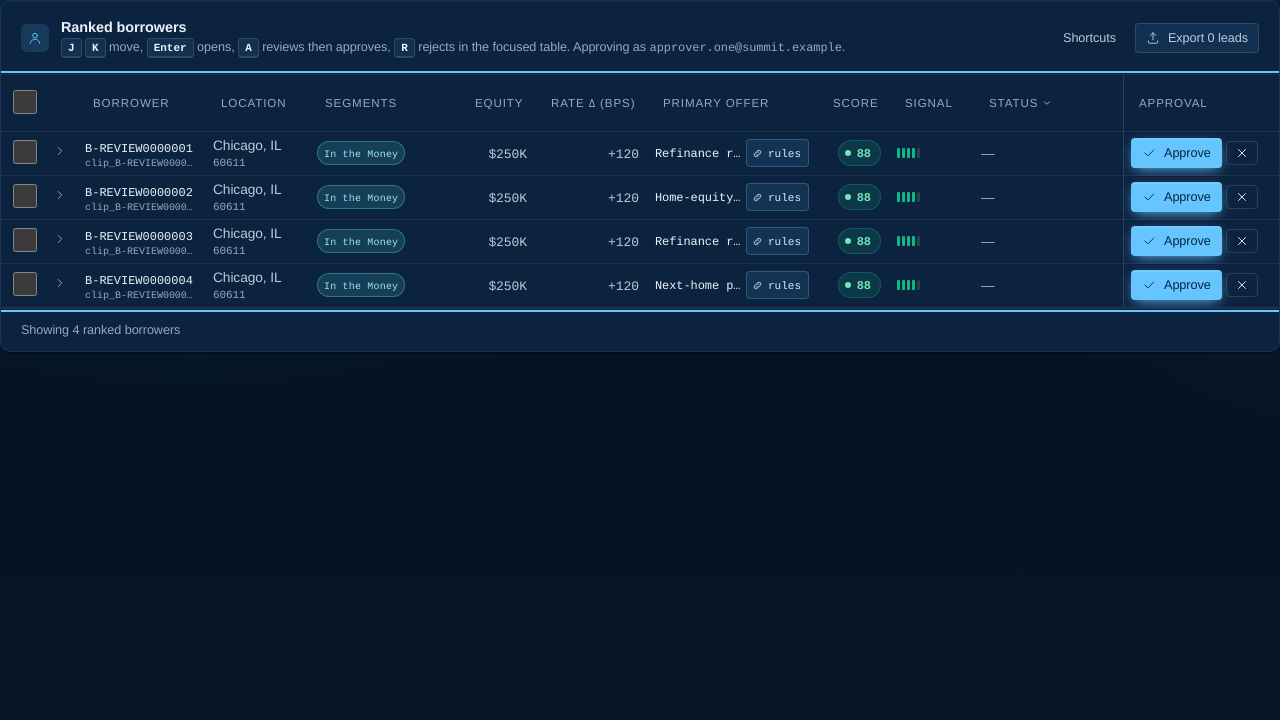
Test case: LeadTable approve review › a review left open on a row that collapsed comes back as the dialog with the same draft
Press j in the element with class "tbl-wrap", box [1,75,1279,308]
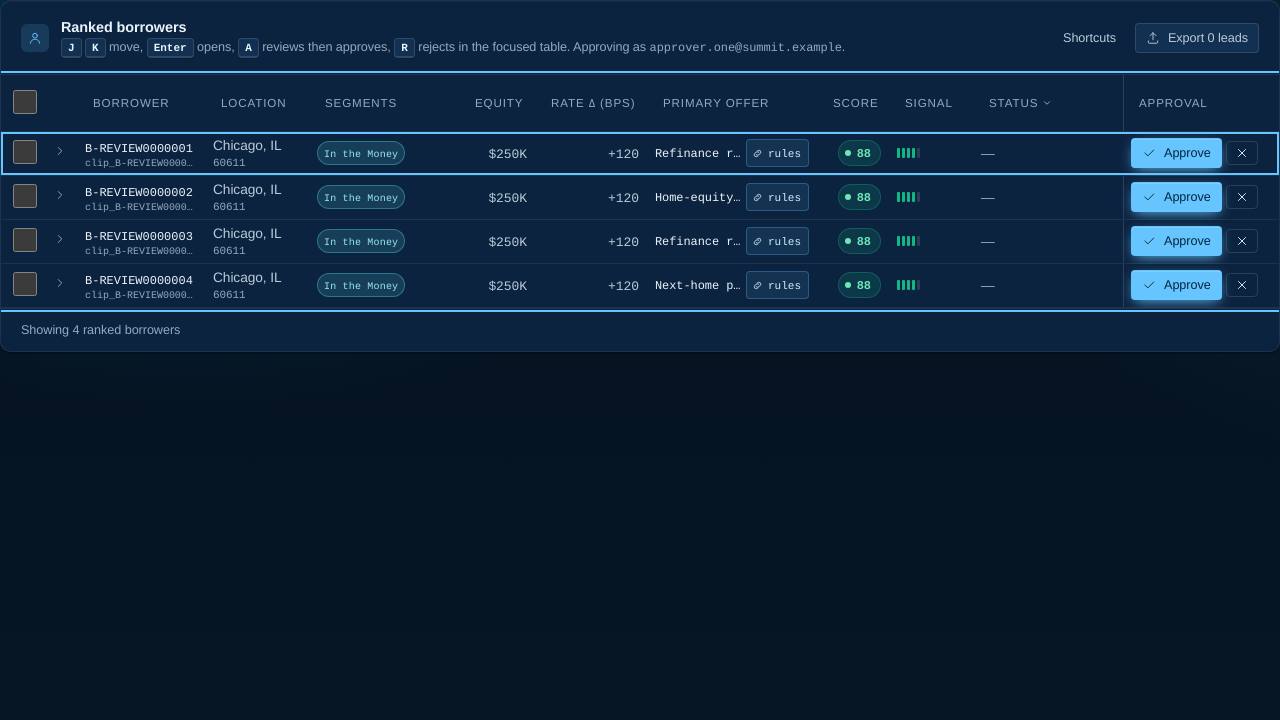
Press Enter in the element with class "tbl-wrap", box [1,75,1279,308]
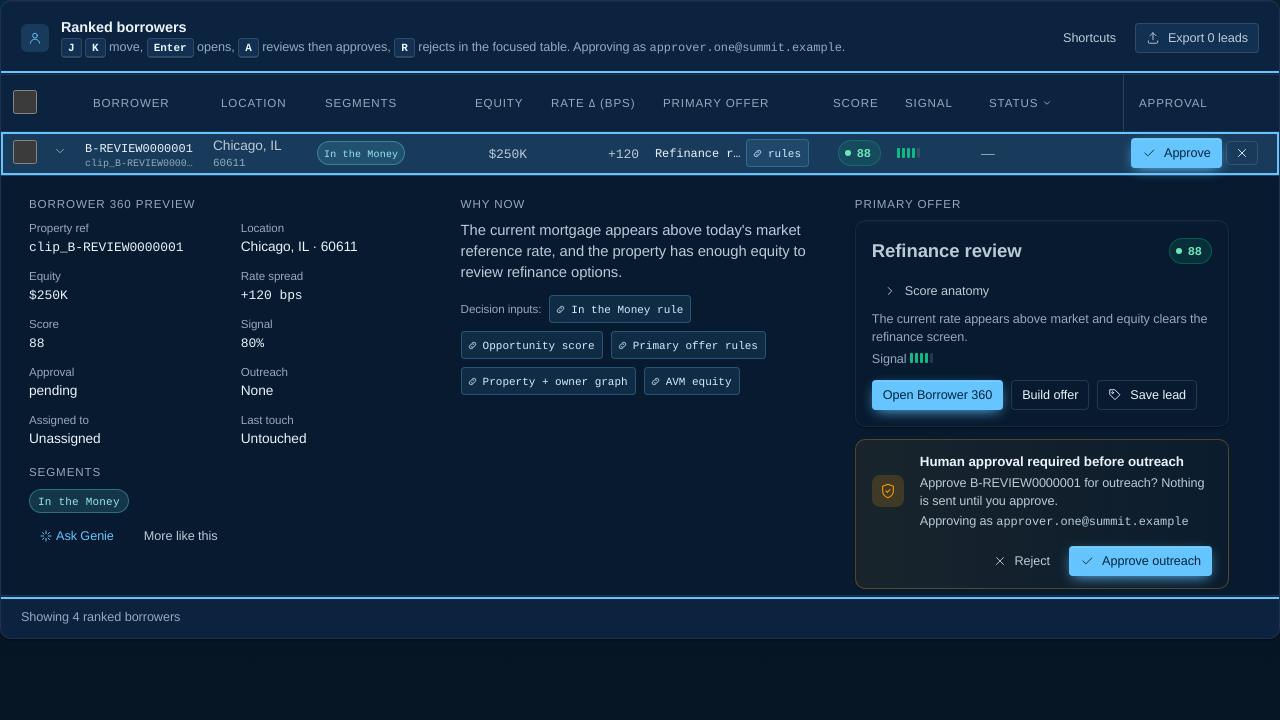
Press a in the element with class "tbl-wrap"
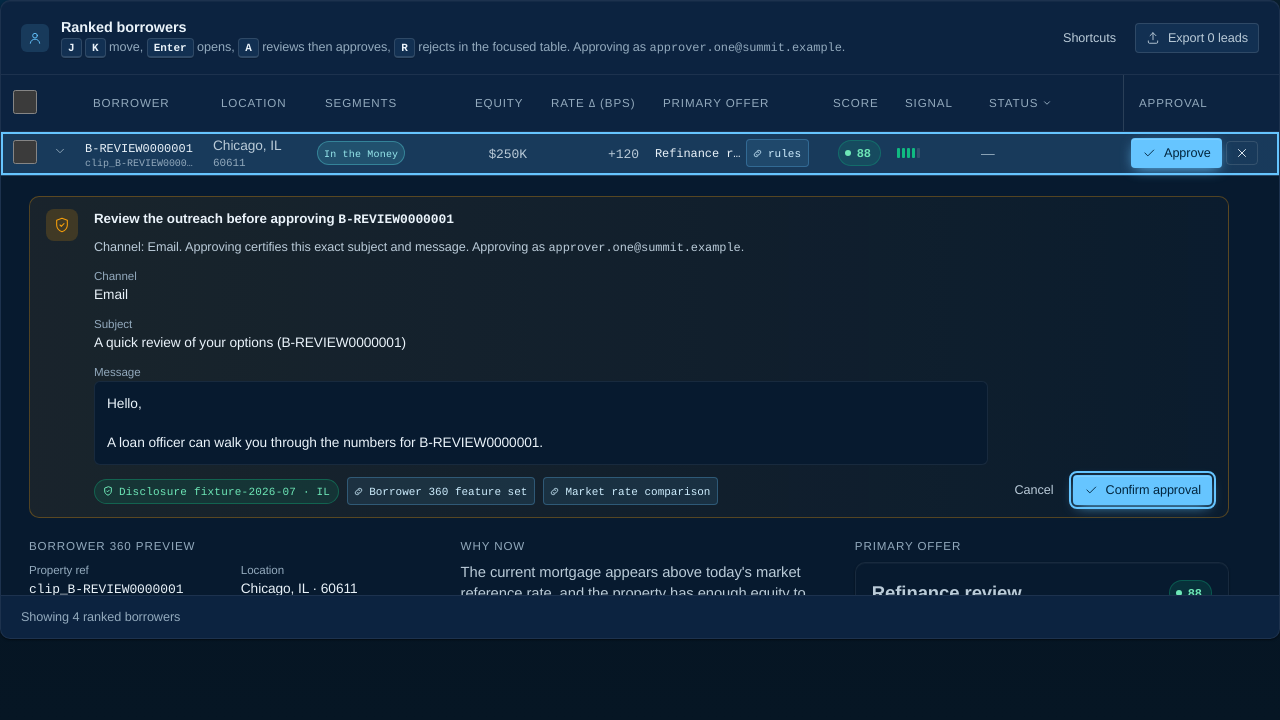
Press j in the button "Confirm approval", box [1073,475,1212,505]
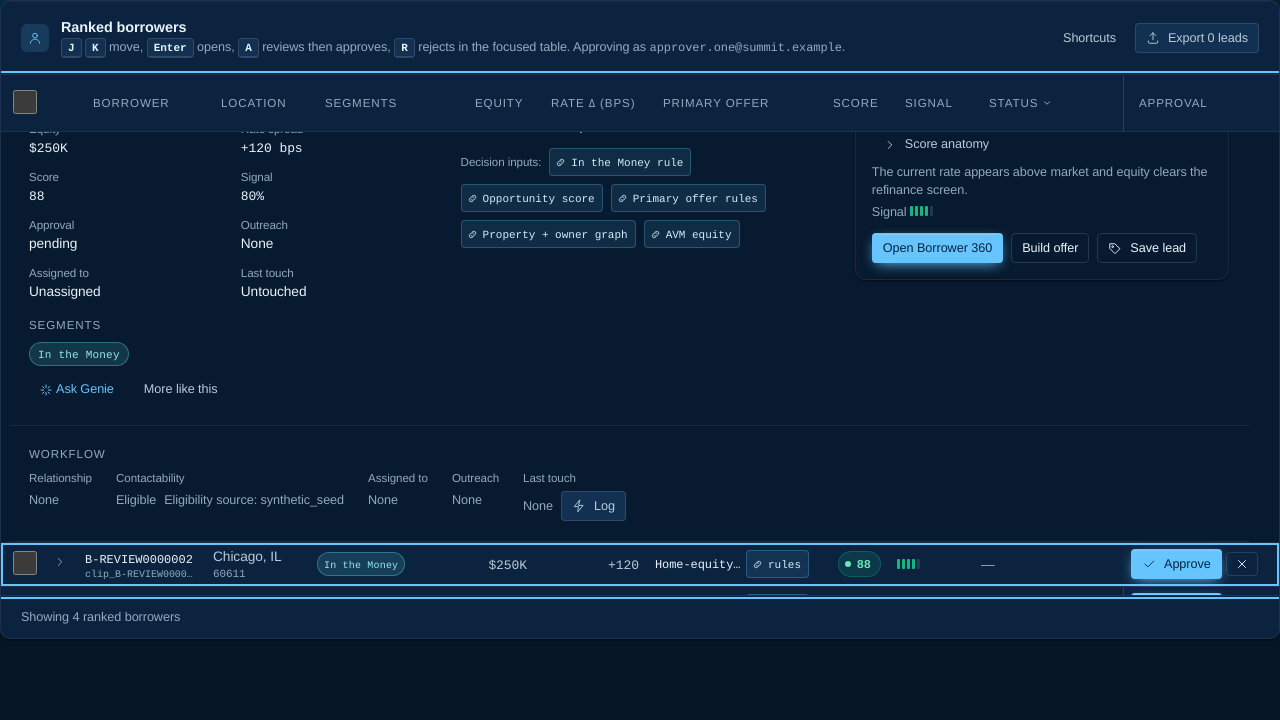
Press Enter in the element with class "tbl-wrap"
(page scrolled)
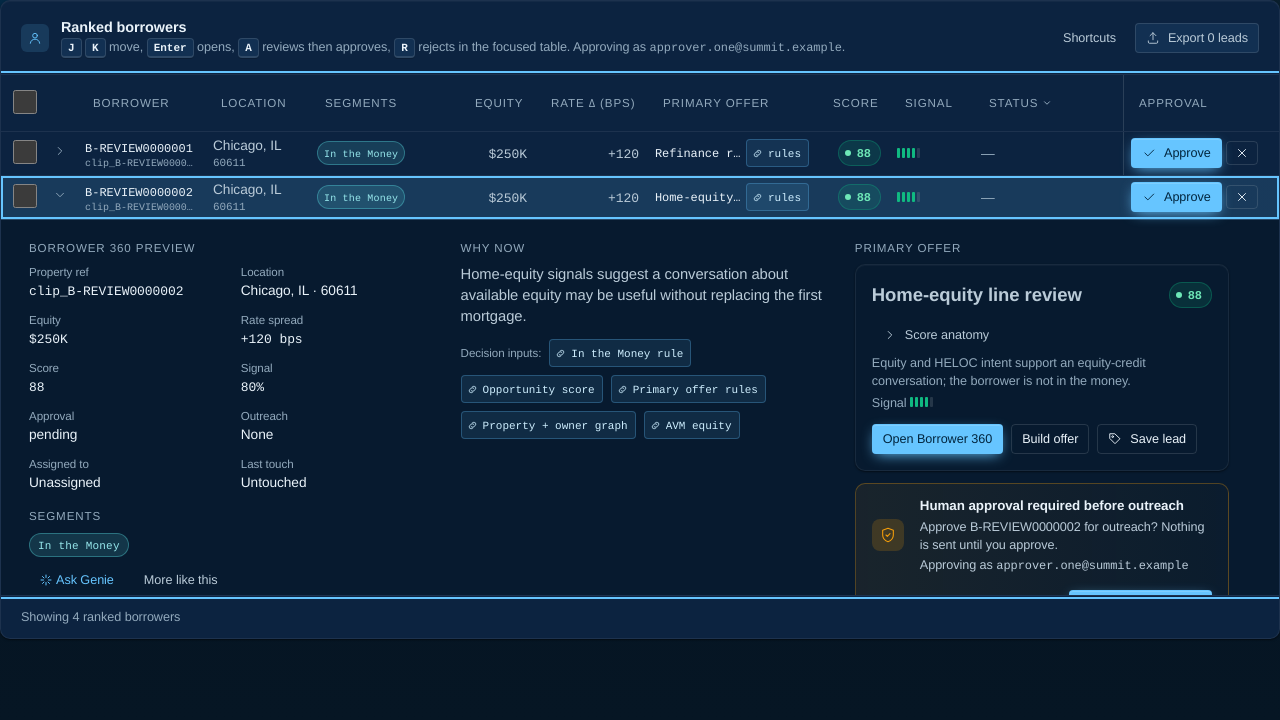
Click the button "Approve" in the row of "Refinance review": [1176, 153] box [1131,138,1222,168]
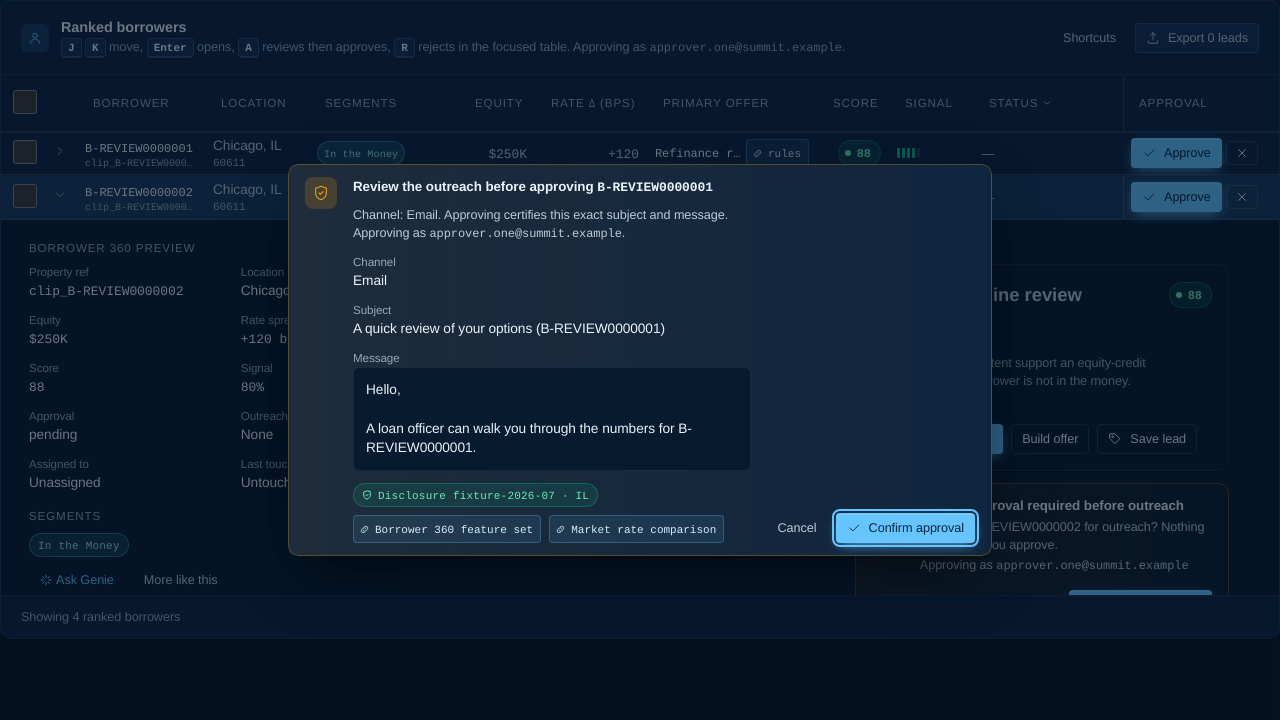
Expected: the text with test id "lead-approve-review-subject" reads "A quick review of your options (B-REVIEW0000001)", [353,320,665,337]
